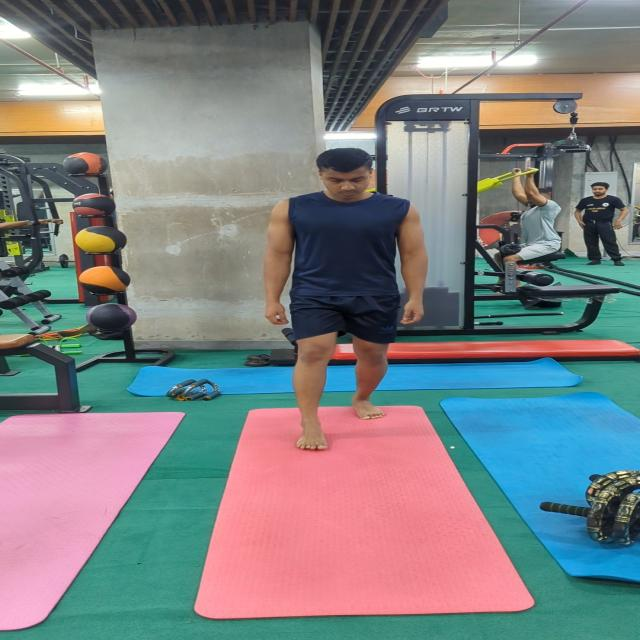Normal_Lunges: (262, 143, 432, 456)
